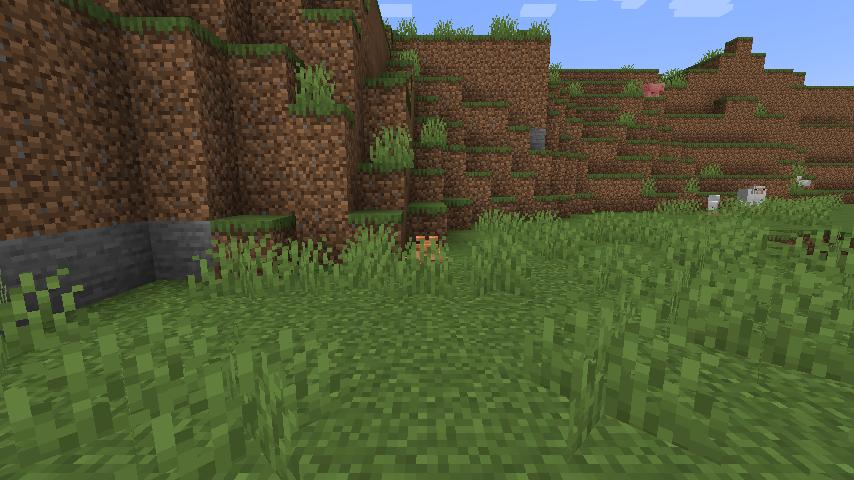frog: (404, 231, 447, 268)
pig: (641, 79, 669, 99)
sheep: (734, 182, 769, 210)
